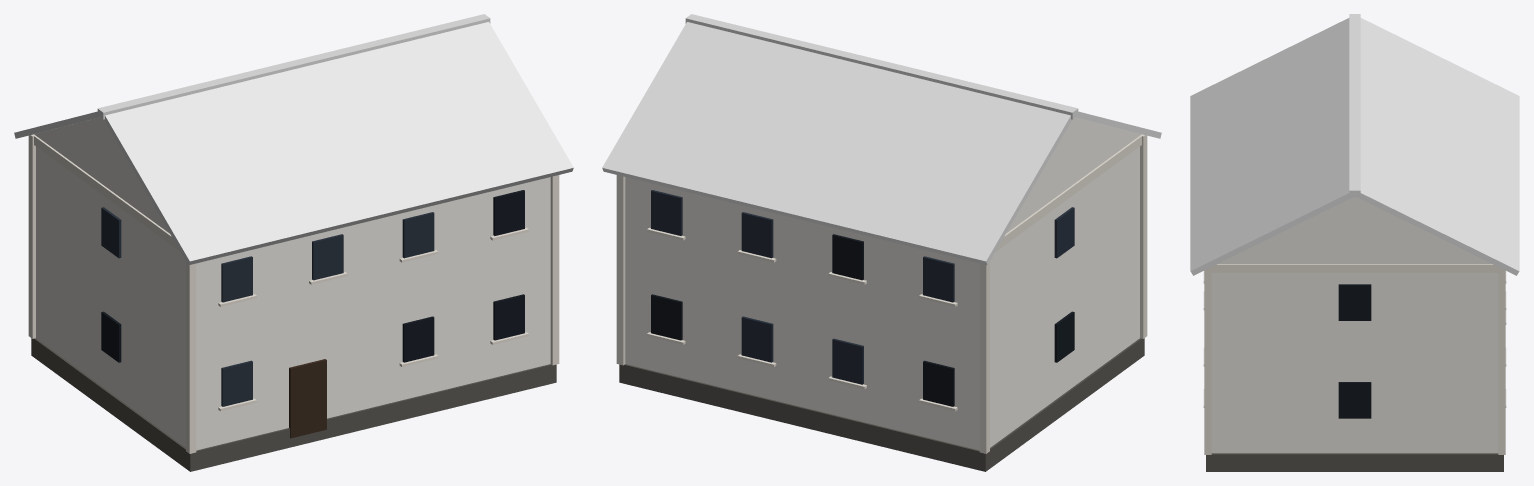
The model's file is boathouse.glb.
3 views of the same model, side by side, from view 1: azimuth 30°, elevation 25°; view 2: azimuth 150°, elevation 25°; view 3: azimuth 270°, elevation 25° (orthographic). The views are drawn at different scales.
Parts seen in each view (by area): view 1: Walls, Roof, Windows, Plinth, Trim, Gables, Door; view 2: Walls, Roof, Windows, Plinth, Trim, Gables; view 3: Roof, Walls, Gables, Trim, Plinth, Windows.
Boxes of the visible parts, <box> form: Walls: <box>36,146,550,450</box>; Roof: <box>14,14,573,265</box>; Windows: <box>101,190,524,406</box>; Plinth: <box>31,338,556,471</box>; Trim: <box>28,134,559,453</box>; Gables: <box>34,117,169,233</box>; Door: <box>289,359,326,438</box>; Walls: <box>625,146,1139,450</box>; Roof: <box>602,14,1161,265</box>; Windows: <box>651,190,1074,406</box>; Plinth: <box>619,338,1144,471</box>; Trim: <box>616,134,1147,453</box>; Gables: <box>1006,117,1141,233</box>; Roof: <box>1190,14,1519,275</box>; Walls: <box>1211,273,1498,453</box>; Gables: <box>1218,197,1491,263</box>; Trim: <box>1203,264,1506,454</box>; Plinth: <box>1206,453,1503,471</box>; Windows: <box>1338,284,1371,418</box>.
Bounding box in the file's own units: 12.8 × 9.66 × 10.07.
